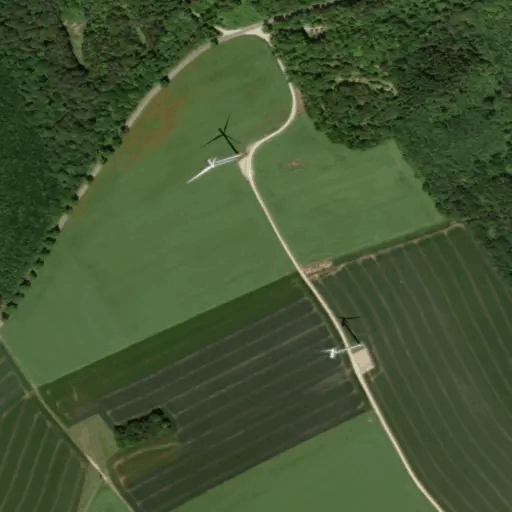wt: (178, 113, 248, 186), (312, 309, 380, 364)
